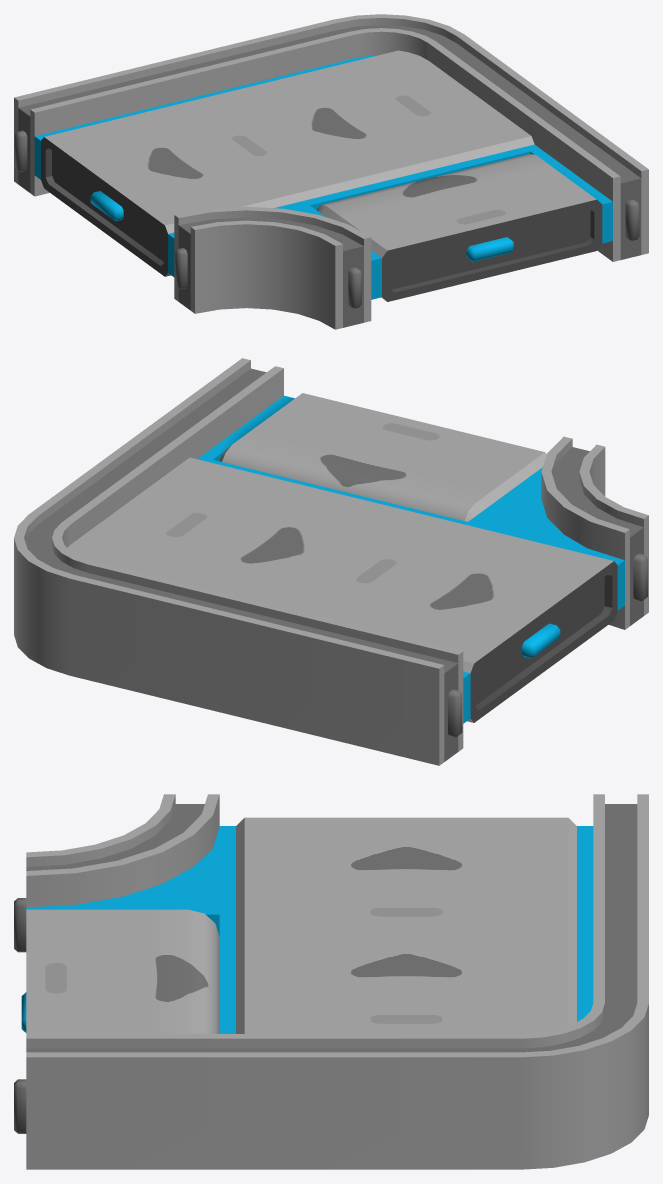
The model's file is Conveyor_Belt_2nd_Turn_02A.fbx.
3 renders of one model, top to bottom at view 1: azimuth 30°, elevation 25°; view 2: azimuth 150°, elevation 25°; view 3: azimuth 270°, elevation 25°, orthographic. The views are drawn at different scales.
Visible parts, largest first — view 1: Conveyor_Belt_2nd_Turn_02A; view 2: Conveyor_Belt_2nd_Turn_02A; view 3: Conveyor_Belt_2nd_Turn_02A.
Part boxes in pixels (x1,y1,x2,y2): Conveyor_Belt_2nd_Turn_02A: [14, 14, 648, 329]; Conveyor_Belt_2nd_Turn_02A: [14, 358, 648, 765]; Conveyor_Belt_2nd_Turn_02A: [14, 794, 648, 1169].
Bounding box in the file's own units: 167 × 32.6 × 167.
